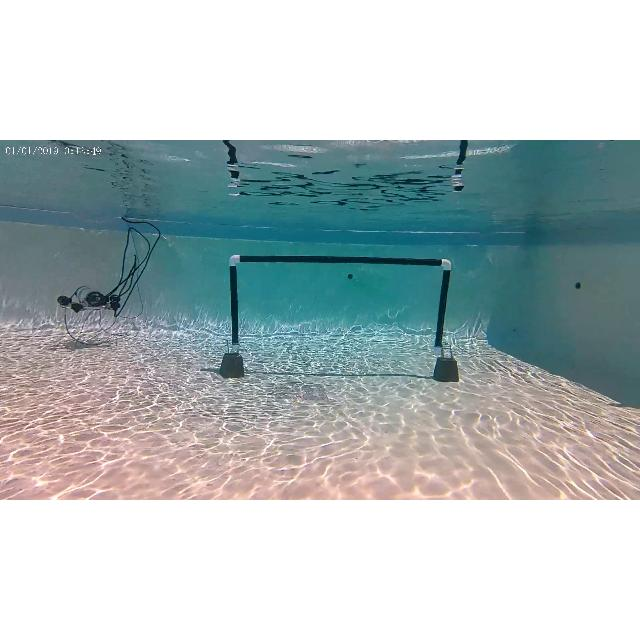prequal gate: (228, 255, 452, 353)
prequal gate leg l: (223, 255, 243, 355)
prequal gate leg r: (432, 254, 456, 356)
